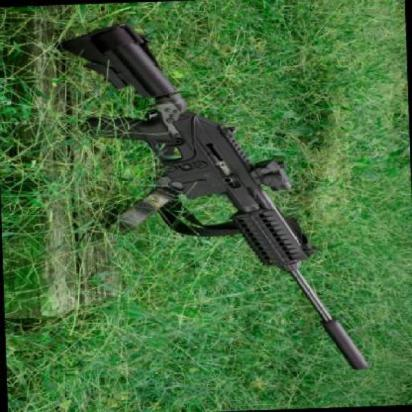Gun: (46, 10, 392, 382)
